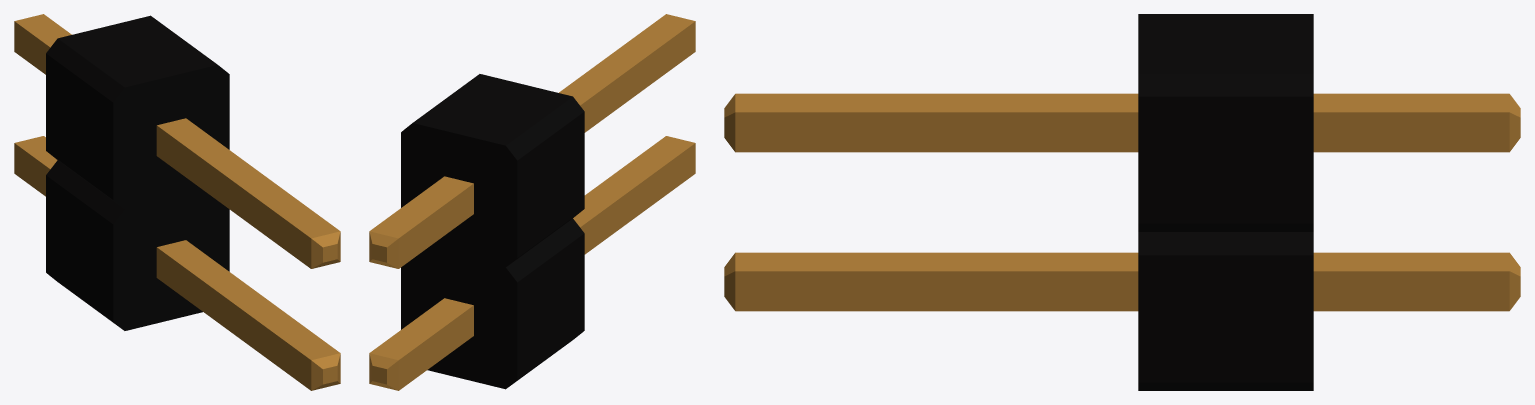
File: pinheader_1x02_p2.54mm_vertical.glb
The picture shows the model from 3 angles, left to right: view 1: azimuth 30°, elevation 25°; view 2: azimuth 150°, elevation 25°; view 3: azimuth 270°, elevation 25°; orthographic projection. The views are drawn at different scales.
Parts seen in each view (by area): view 1: PinHeader_1x02_P2.54mm_Vertical; view 2: PinHeader_1x02_P2.54mm_Vertical; view 3: PinHeader_1x02_P2.54mm_Vertical.
Part boxes in pixels (left/top/right/bottom): PinHeader_1x02_P2.54mm_Vertical: left=14, top=14, right=340, bottom=390; PinHeader_1x02_P2.54mm_Vertical: left=369, top=14, right=695, bottom=390; PinHeader_1x02_P2.54mm_Vertical: left=724, top=14, right=1520, bottom=390.
Size of the model in its own units: 2.54 by 5.08 by 11.54.
